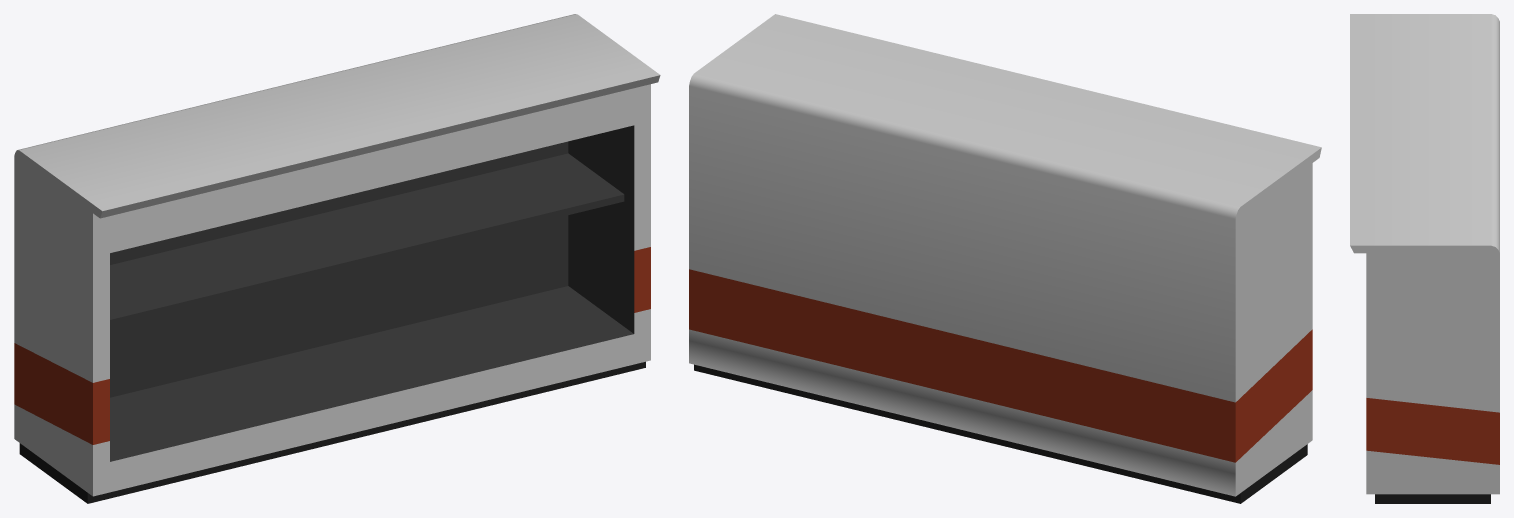
Rendered from desk-3.glb.
3 renders of one model, left to right at view 1: azimuth 30°, elevation 25°; view 2: azimuth 150°, elevation 25°; view 3: azimuth 270°, elevation 25°, orthographic. The views are drawn at different scales.
Visible parts, largest first — view 1: Desk_3; view 2: Desk_3; view 3: Desk_3.
Part boxes in pixels (x1=…): Desk_3: x1=14, y1=14, x2=660, y2=503; Desk_3: x1=689, y1=14, x2=1321, y2=503; Desk_3: x1=1350, y1=14, x2=1499, y2=503.
Size of the model in its own units: 200 by 104 by 54.67.
Materials: 1 (1 with a texture image).
